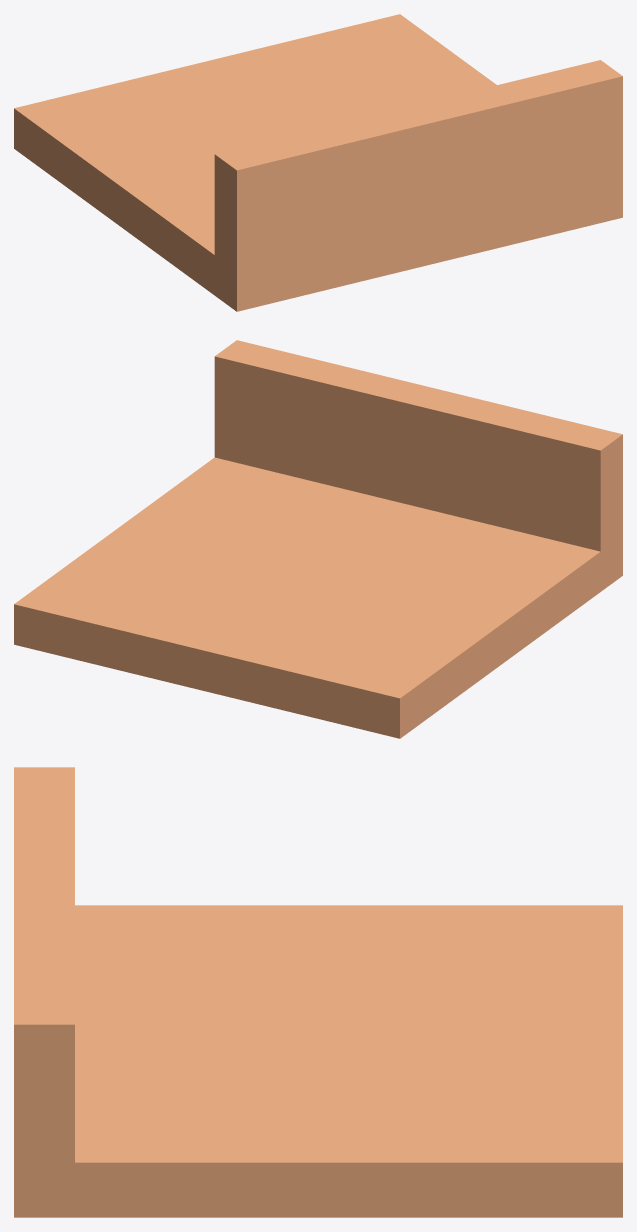
File: BeigeRoof_1Edge_small.glb
3 views of the same model, one above another, from view 1: azimuth 30°, elevation 25°; view 2: azimuth 150°, elevation 25°; view 3: azimuth 270°, elevation 25° (orthographic). The views are drawn at different scales.
Parts seen in each view (by area): view 1: roof_flat_1Edges_small_beige; view 2: roof_flat_1Edges_small_beige; view 3: roof_flat_1Edges_small_beige.
Boxes of the visible parts, box(x1,y1,x2,y2) form: roof_flat_1Edges_small_beige: box(14, 14, 622, 311); roof_flat_1Edges_small_beige: box(14, 340, 622, 738); roof_flat_1Edges_small_beige: box(14, 767, 622, 1217).
Size of the model in its own units: 2 by 0.7 by 2.
1 material, 1 textured.
